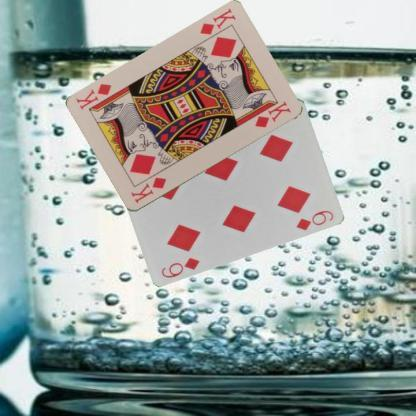6d: (159, 254, 201, 279)
Kd: (128, 174, 168, 206), (197, 6, 237, 36)
